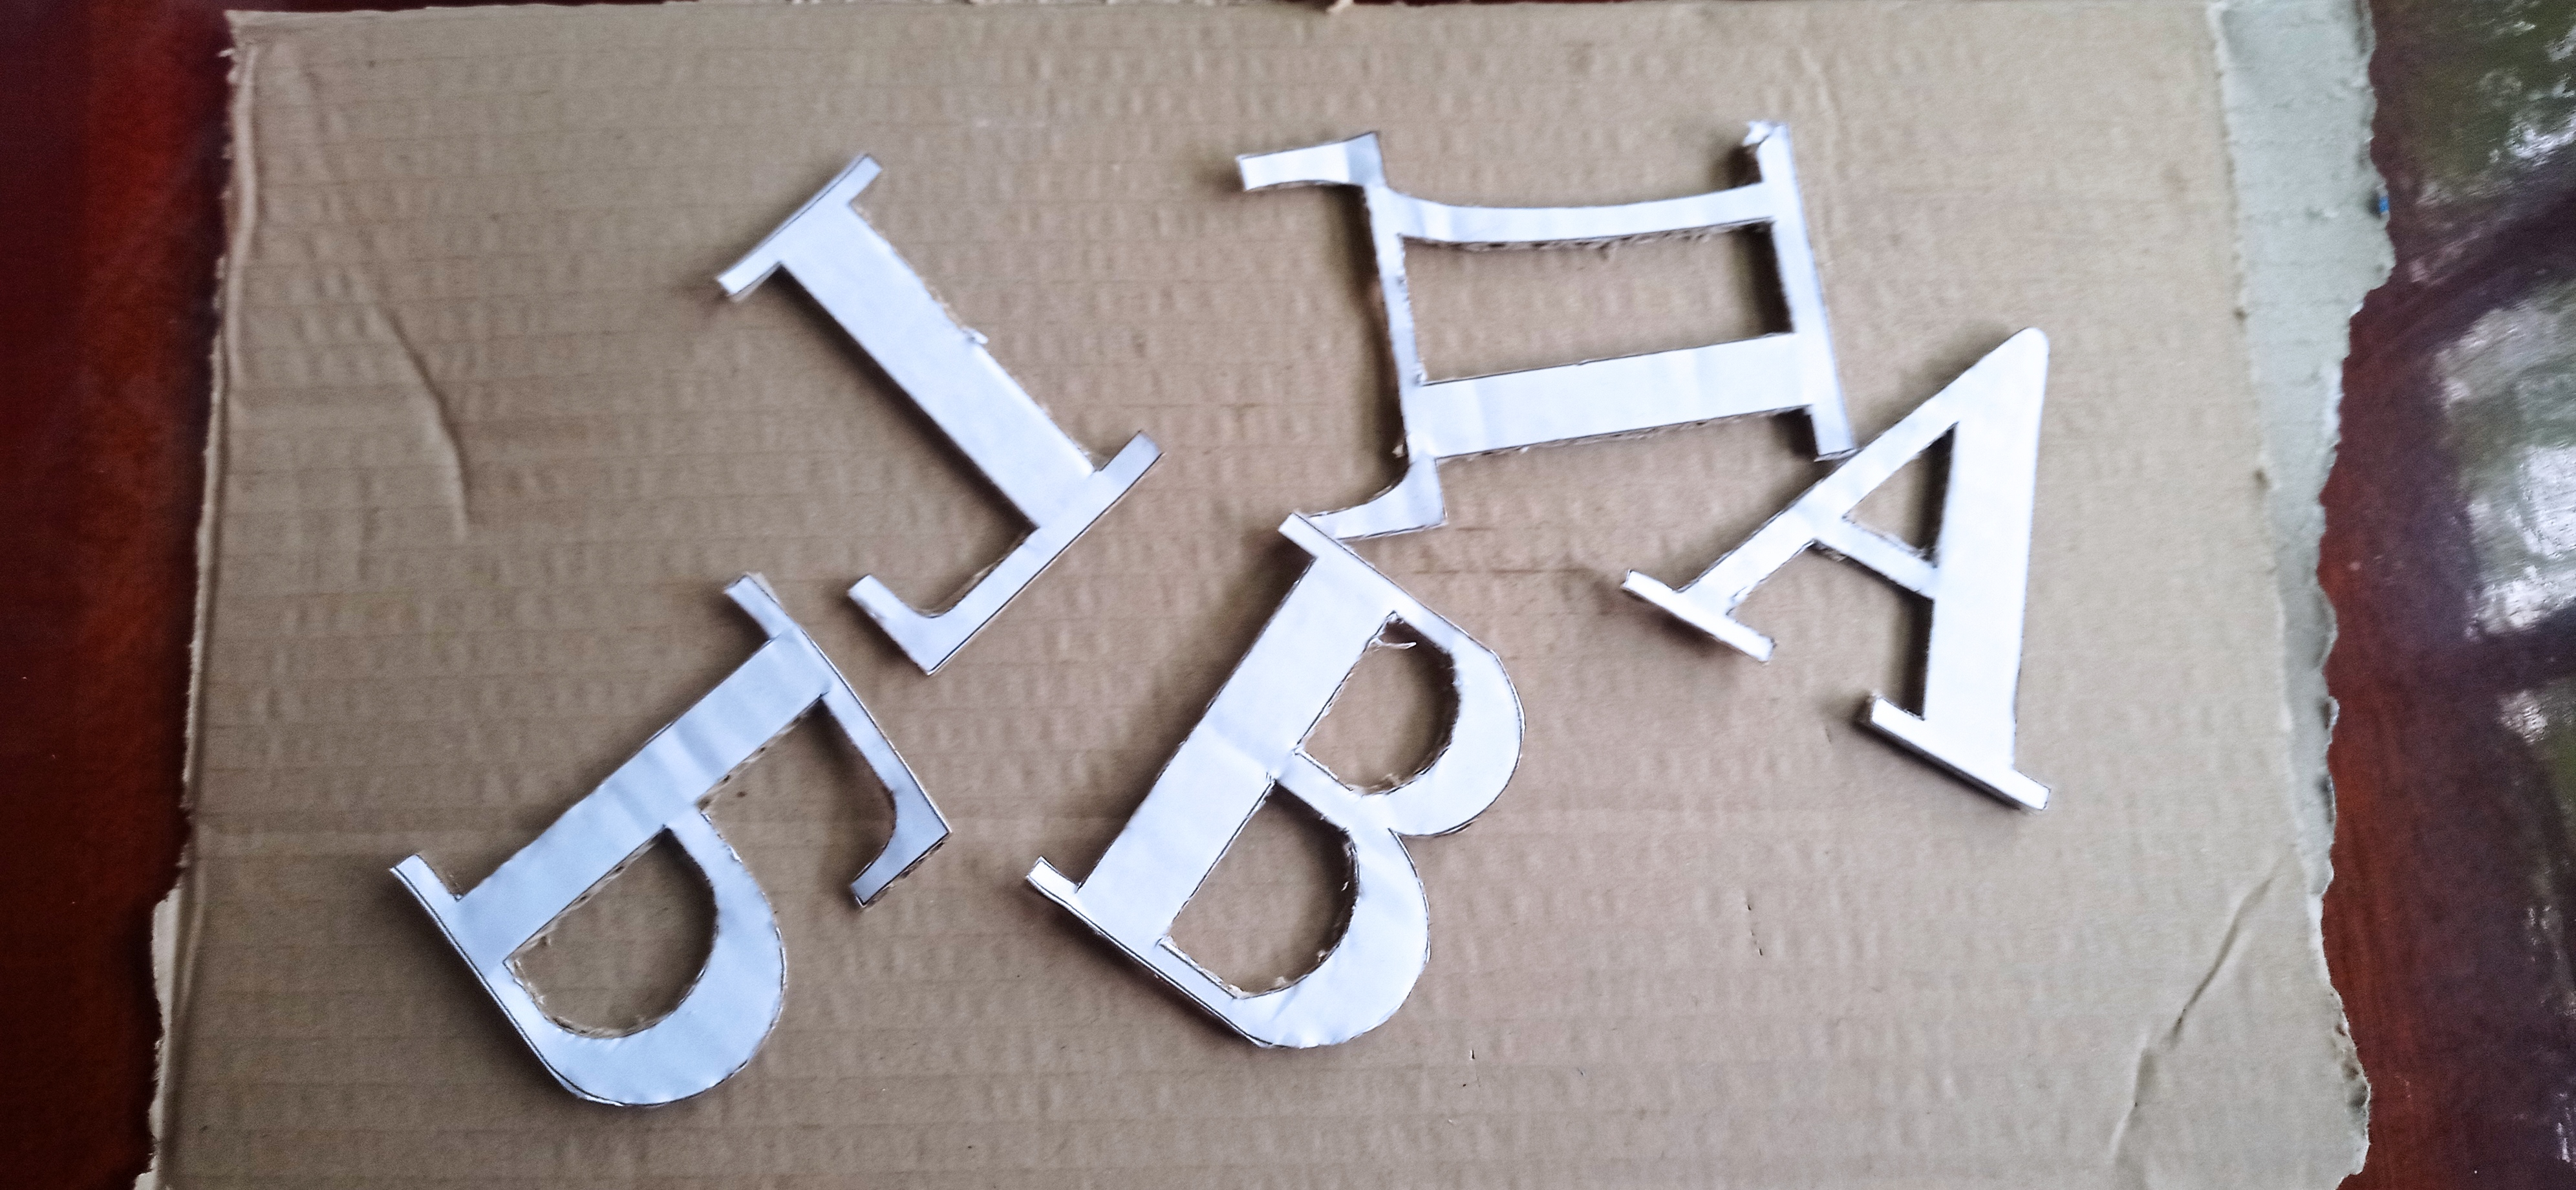a: (1621, 322, 2054, 819)
b: (388, 577, 955, 1109)
d: (1234, 115, 1852, 539)
g: (713, 146, 1163, 679)
v: (1020, 506, 1525, 1050)
